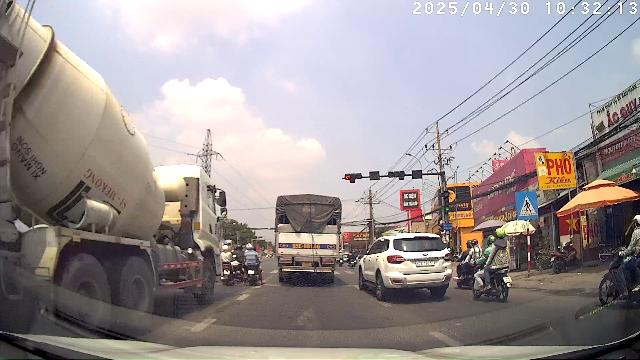423a-duong-nguoi-di-bo-sang-ngang-1: (516, 192, 538, 218)
